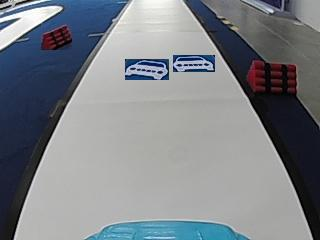bomb: (249, 61, 297, 92)
